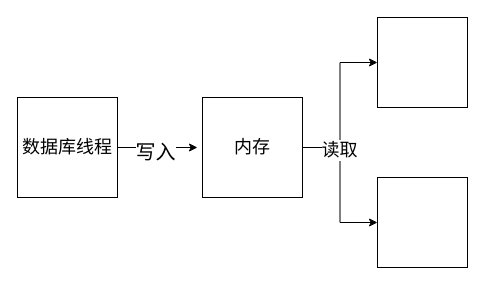
The diagram is 485 pixels wide and 285 high, and some of its shapes have lost their labels. The centre of each missing label's shape, as x and y in pixels:
"业务线程1" goes at pixel 422 62.
"业务线程2" goes at pixel 422 222.
